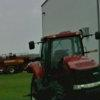Tractor: (18, 31, 100, 99)
